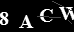8: (1, 11, 9, 26)
A: (18, 14, 34, 29)
C: (39, 8, 54, 23)
W: (58, 5, 74, 21)
